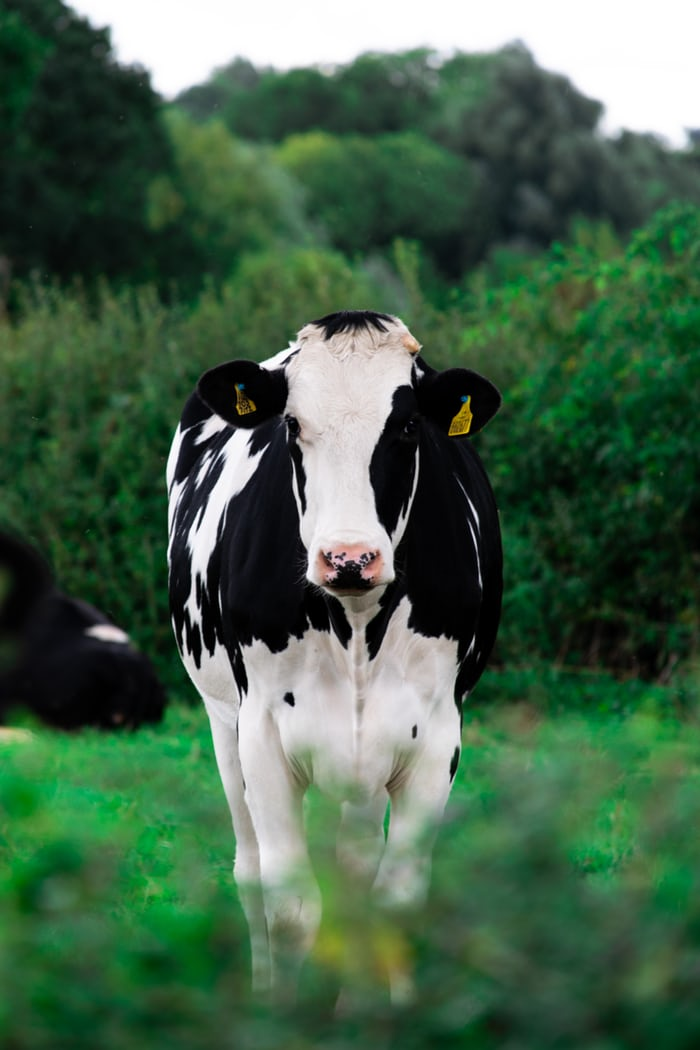nontarget: (127, 308, 509, 970)
